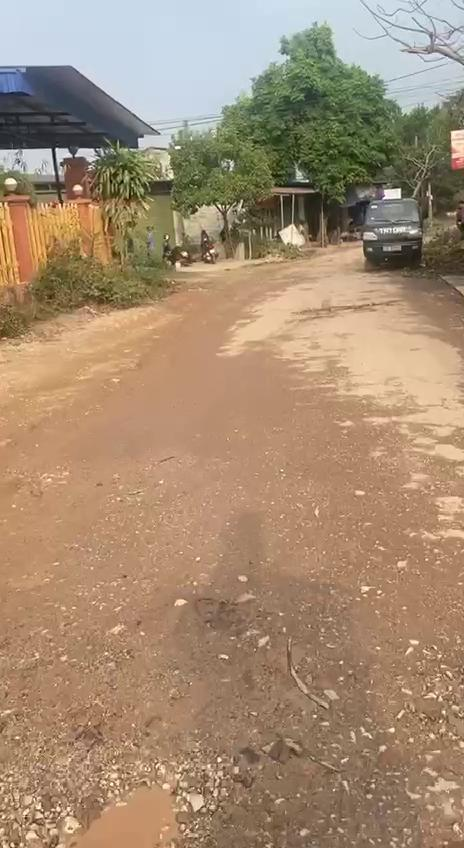pothole: (0, 745, 254, 848)
